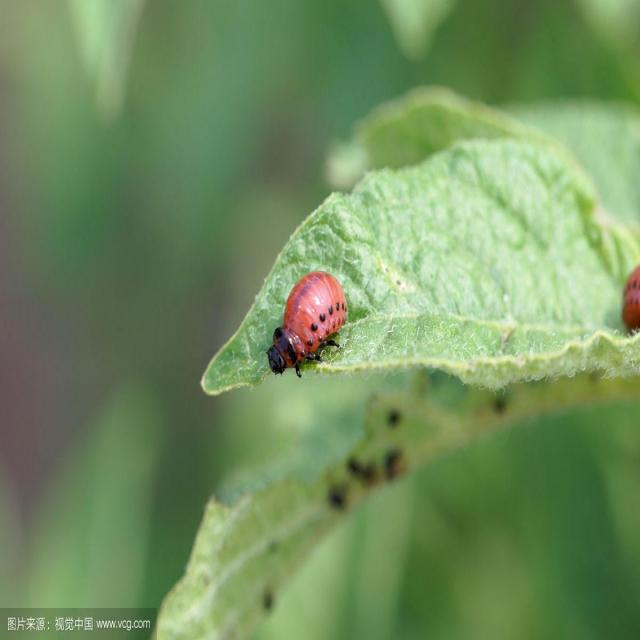ShuCaiHuaBanChong-Larva-: (262, 260, 359, 390)
